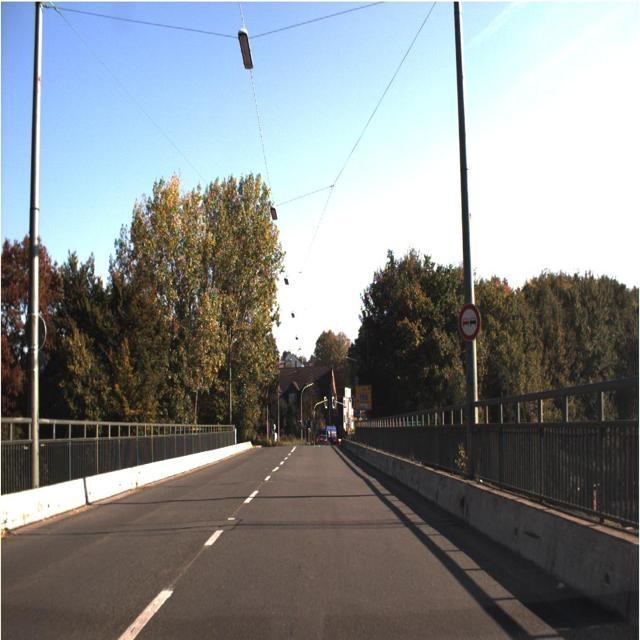forb_overtake: (458, 302, 481, 342)
